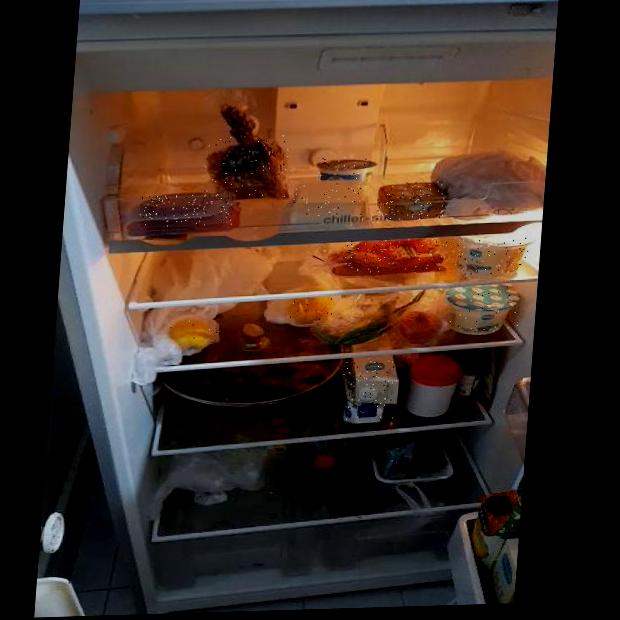bread: (203, 132, 290, 200)
butter: (376, 181, 447, 220)
carrot: (333, 238, 447, 274)
cheese: (290, 183, 364, 217)
lemon: (166, 317, 218, 351), (290, 294, 333, 325)
milk: (340, 359, 398, 423)
salami: (139, 194, 234, 227)
yoghurt: (446, 284, 521, 334), (456, 234, 531, 275), (318, 156, 376, 180)
